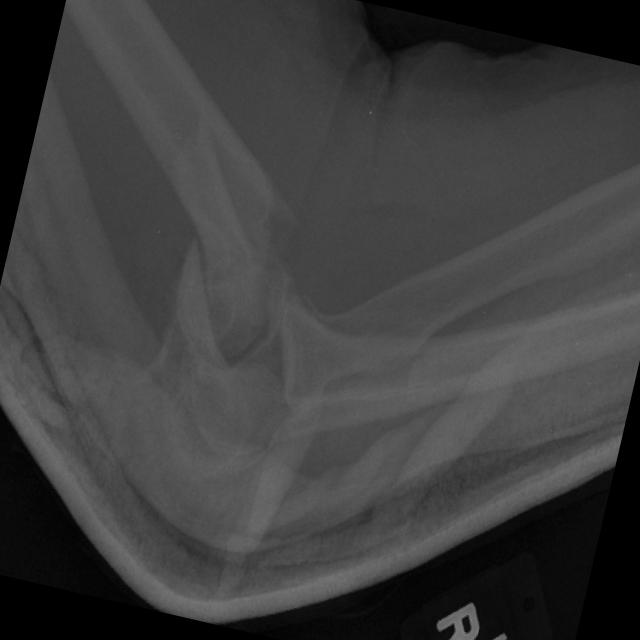elbow positive: (87, 77, 349, 344)
